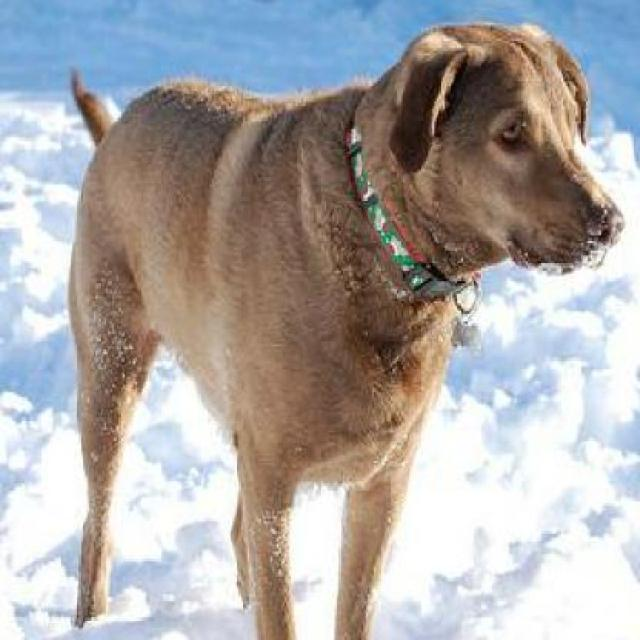Dog: (56, 19, 626, 638)
